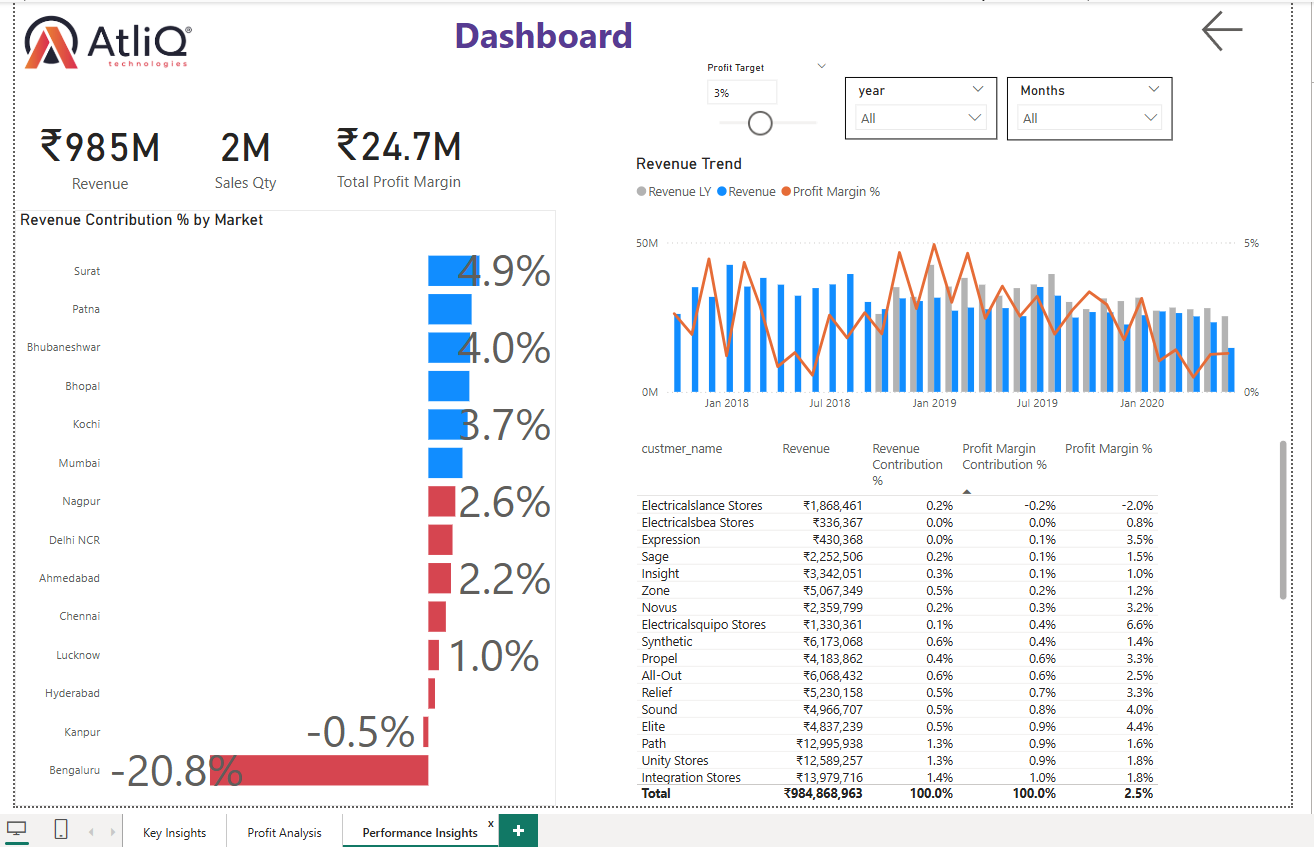

The dashboard page shown, as its layout file describes it:
{"tool":"powerbi","page":{"name":"Profit Anaysis","canvas":[1350,850],"ordinal":2},"visuals":[{"type":"card","fields":{"Values":["BaseMeasures (2).Revenue"]},"box":[0,99.4,179.7,120.5],"z":0},{"type":"card","fields":{"Values":["BaseMeasures (2).Sales Qty"]},"box":[161.8,97.3,163.9,123.7],"z":1000},{"type":"slicer","fields":{"Values":["sales date.year"]},"box":[877.5,79.3,160.7,65.5],"z":2000},{"type":"slicer","fields":{"Values":["sales date.cy_date"]},"box":[1048.8,79.3,175.5,66.6],"z":3000},{"type":"tableEx","title":"Top 5 Customers","fields":{"Values":["sales customers.custmer_name","BaseMeasures (2).Revenue","BaseMeasures (2).Revenue Contribution %","BaseMeasures (2).Profit Margin Contribution %","BaseMeasures (2).Profit Margin %"]},"box":[651.4,457.3,698.8,392.3],"z":4000},{"type":"lineClusteredColumnComboChart","title":"Revenue Trend","fields":{"Category":["sales date.cy_date"],"Y":["BaseMeasures (2).Revenue LY","BaseMeasures (2).Revenue"],"Y2":["BaseMeasures (2).Profit Margin %"]},"box":[651.4,161,672,281.8],"z":5000},{"type":"card","fields":{"Values":["BaseMeasures (2).Total Profit Margin"]},"box":[325.6,92,160.7,132.2],"z":6000},{"type":"barChart","title":"Revenue Contribution % by Market","fields":{"Y":["BaseMeasures (2).Profit Margin %"],"Category":["sales markets.markets_name"]},"box":[11,219.7,599.4,630.3],"z":7000},{"type":"slicer","fields":{"Values":["Profit Target.Profit Target"]},"box":[718.6,58.5,151.2,86.1],"z":8000},{"type":"textbox","box":[458.8,3.2,215.7,98.3],"z":9000},{"type":"image","box":[0,0,196.6,84.6],"z":10000},{"type":"actionButton","box":[1249.6,3.2,100.4,55],"z":11000}]}

Visuals, with their boxes on the page's 1350x850 design canvas (x1, y1, x2, y2). These are canvas units, not pixel positions in the 1314x847 screenshot, which may show the page scaled, cropped or inside an application window:
card - BaseMeasures (2).Revenue: BBox(0, 99, 180, 220)
card - BaseMeasures (2).Sales Qty: BBox(162, 97, 326, 221)
slicer - sales date.year: BBox(878, 79, 1038, 145)
slicer - sales date.cy_date: BBox(1049, 79, 1224, 146)
"Top 5 Customers" tableEx: BBox(651, 457, 1350, 850)
"Revenue Trend" lineClusteredColumnComboChart: BBox(651, 161, 1323, 443)
card - BaseMeasures (2).Total Profit Margin: BBox(326, 92, 486, 224)
"Revenue Contribution % by Market" barChart: BBox(11, 220, 610, 850)
slicer - Profit Target.Profit Target: BBox(719, 58, 870, 145)
textbox: BBox(459, 3, 674, 102)
image: BBox(0, 0, 197, 85)
actionButton: BBox(1250, 3, 1350, 58)
